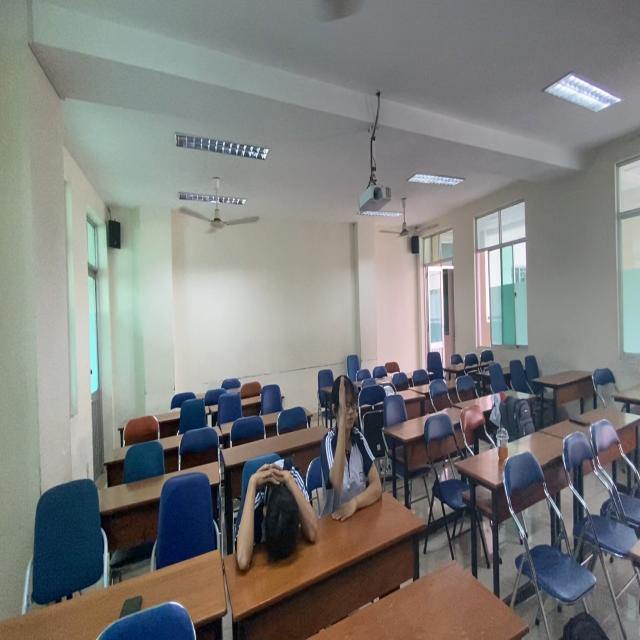raise_hand: (322, 371, 388, 523)
sleep: (233, 455, 324, 569)
